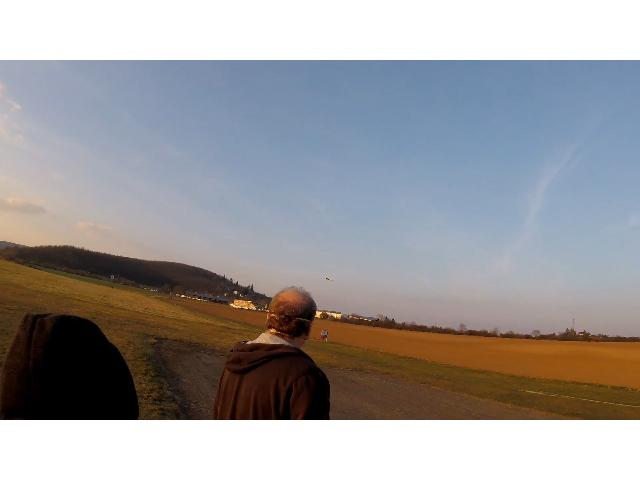Anti-Drone: (326, 278, 332, 280)
